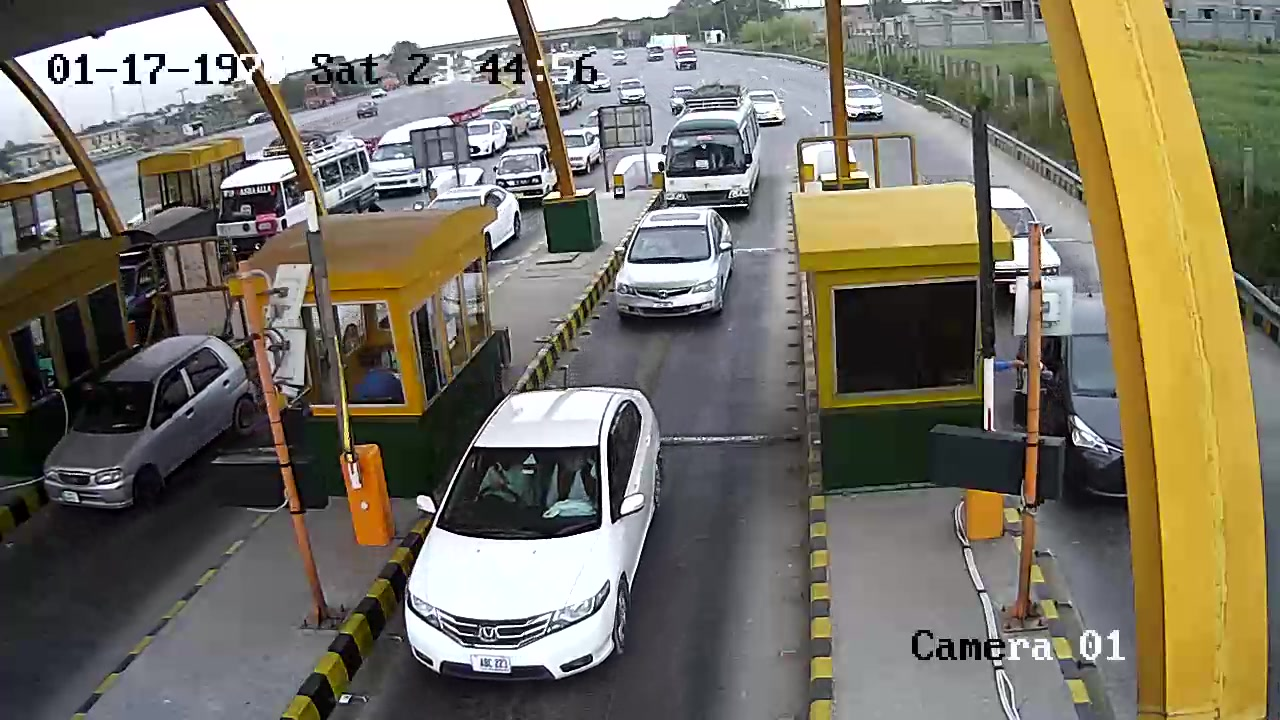F1: (394, 367, 673, 686)
